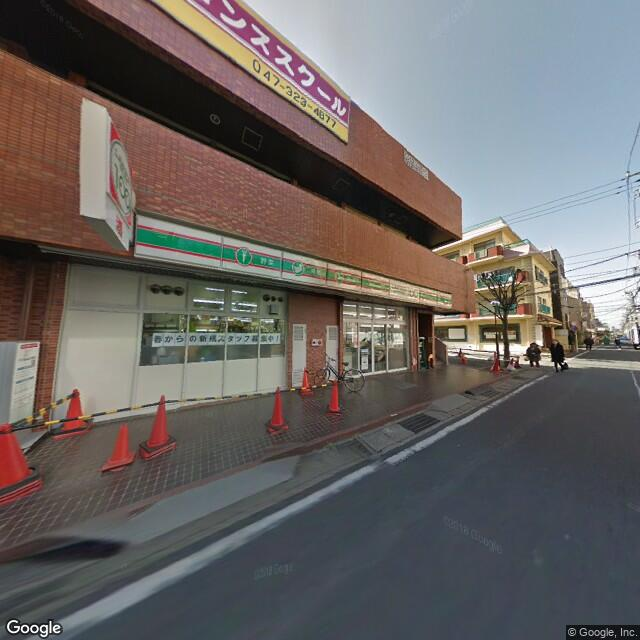lawson: (135, 215, 453, 319), (106, 115, 135, 231)
